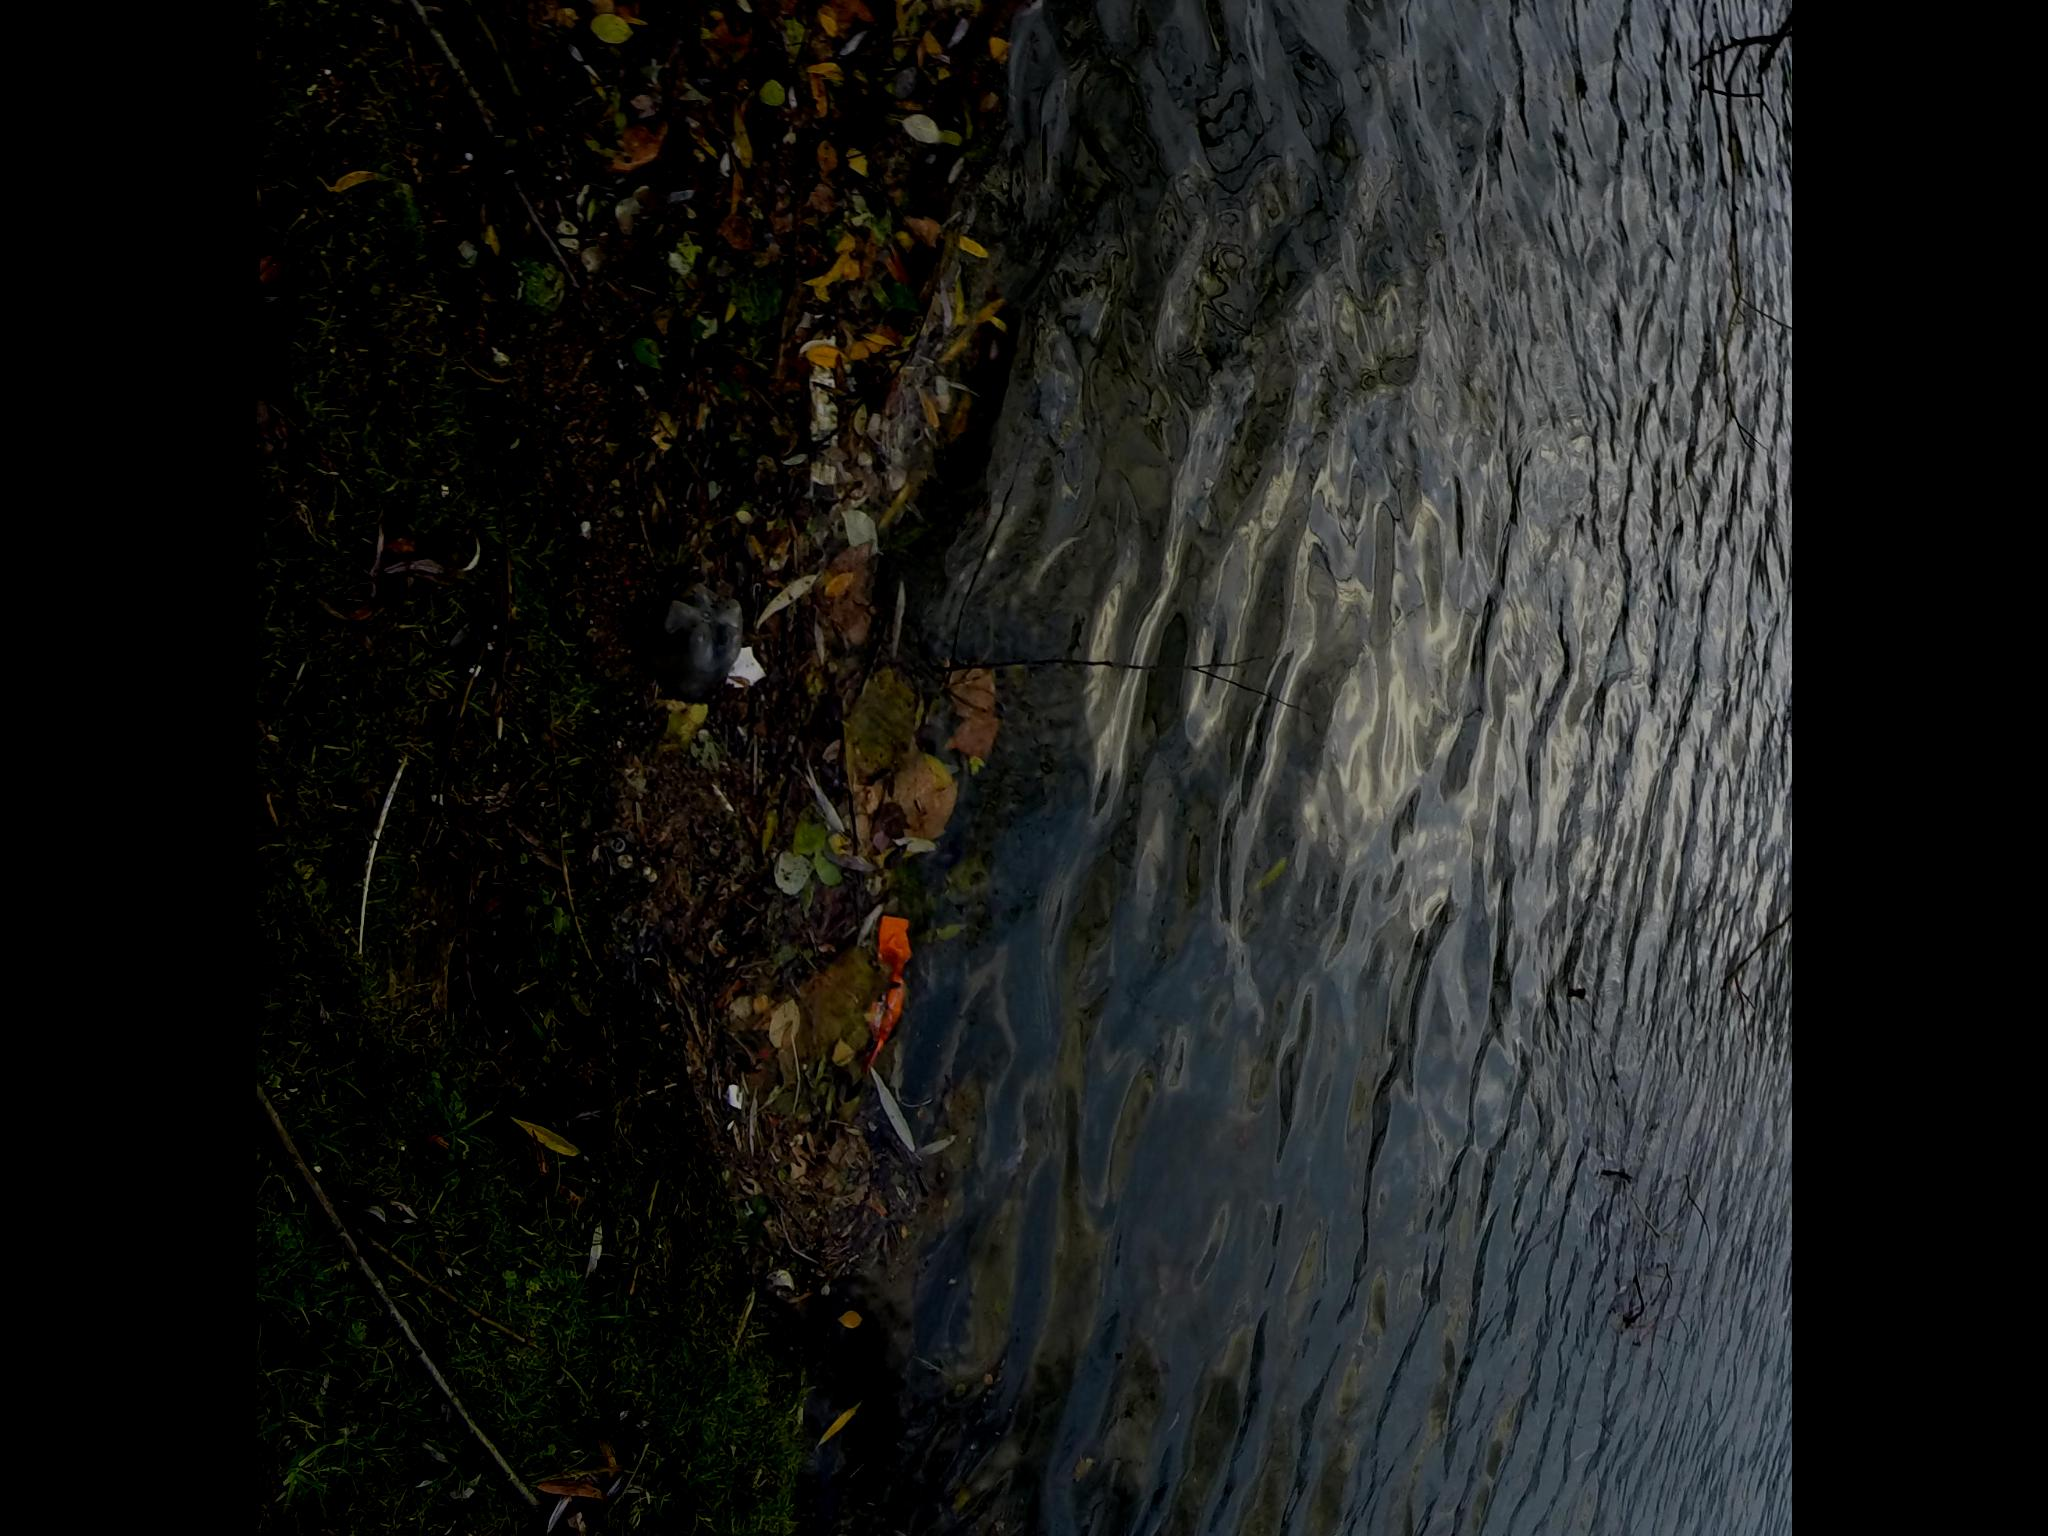bottle: (616, 570, 748, 723)
